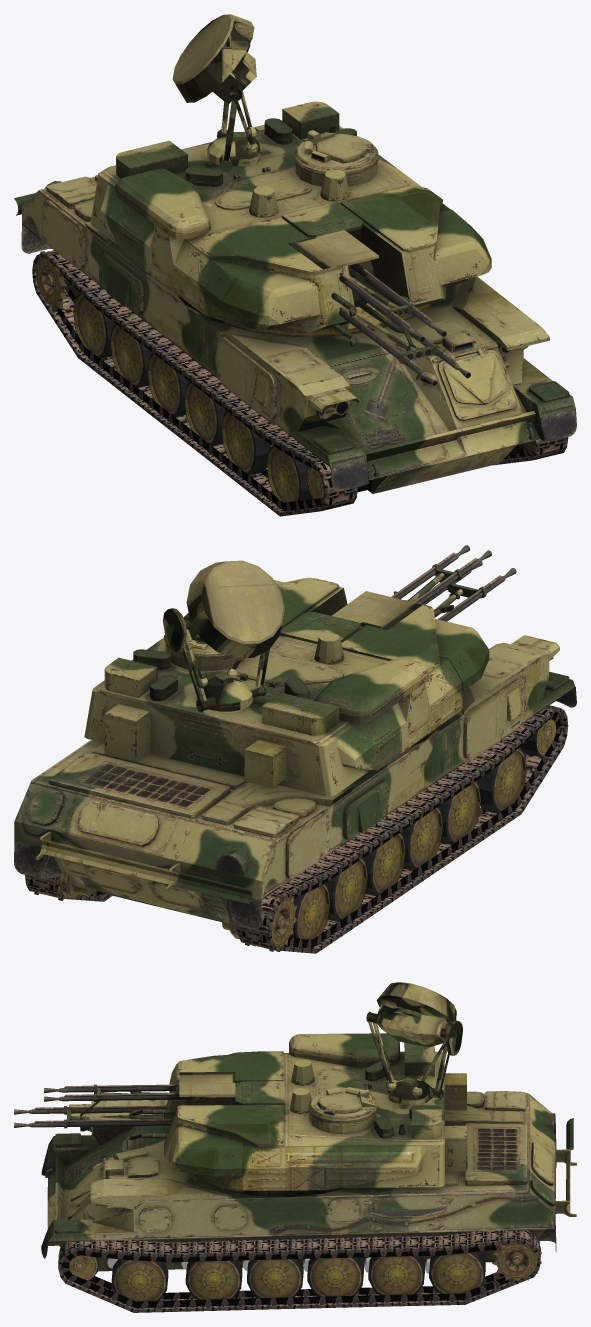
The model's file is Shilka.fbx.
3 renders of one model, top to bottom at view 1: azimuth 30°, elevation 25°; view 2: azimuth 150°, elevation 25°; view 3: azimuth 270°, elevation 25°, orthographic. The views are drawn at different scales.
Visible parts, largest first — view 1: Frame, Turret, Wheel_R, Track_R_OUT, RDR, Track_R, Cannon, Cannon_Shield_Upper, Frame_Hull, Cannon_Supporter, Cannon_Shield, Track_L_OUT; view 2: Frame, Turret, Wheel_R, RDR, Track_R_OUT, Track_R, Cannon, Cannon_Shield_Upper, Track_L_OUT, Cannon_Supporter; view 3: Frame, Turret, Wheel_L, Track_L_OUT, Track_L, RDR, Cannon, Cannon_Shield_Upper, Cannon_Supporter, Frame_Hull.
Part boxes in pixels (left/top/right/bottom): Frame: left=14, top=175, right=576, bottom=494; Turret: left=90, top=101, right=491, bottom=332; Wheel_R: left=35, top=251, right=323, bottom=502; Track_R_OUT: left=32, top=250, right=357, bottom=516; RDR: left=172, top=14, right=260, bottom=171; Track_R: left=56, top=275, right=323, bottom=511; Cannon: left=339, top=263, right=470, bottom=386; Cannon_Shield_Upper: left=288, top=230, right=378, bottom=269; Frame_Hull: left=177, top=289, right=518, bottom=493; Cannon_Supporter: left=331, top=278, right=439, bottom=364; Cannon_Shield: left=310, top=237, right=416, bottom=350; Track_L_OUT: left=493, top=437, right=568, bottom=465; Frame: left=14, top=635, right=576, bottom=939; Turret: left=84, top=577, right=489, bottom=796; Wheel_R: left=240, top=719, right=555, bottom=951; RDR: left=163, top=560, right=284, bottom=712; Track_R_OUT: left=237, top=705, right=568, bottom=953; Track_R: left=282, top=712, right=560, bottom=948; Cannon: left=391, top=545, right=516, bottom=621; Cannon_Shield_Upper: left=332, top=591, right=422, bottom=629; Track_L_OUT: left=25, top=874, right=112, bottom=901; Cannon_Supporter: left=393, top=564, right=486, bottom=617; Frame: left=41, top=1091, right=576, bottom=1271; Turret: left=164, top=1033, right=467, bottom=1190; Wheel_L: left=69, top=1230, right=541, bottom=1301; Track_L_OUT: left=58, top=1230, right=540, bottom=1312; Track_L: left=62, top=1245, right=514, bottom=1307; RDR: left=366, top=982, right=462, bottom=1106; Cannon: left=14, top=1084, right=202, bottom=1127; Cannon_Shield_Upper: left=179, top=1072, right=235, bottom=1096; Cannon_Supporter: left=64, top=1084, right=176, bottom=1140; Frame_Hull: left=60, top=1183, right=492, bottom=1262.
Bounding box in the file's own units: 0.9687 × 1.22 × 2.22.
16 materials, 15 textured.
